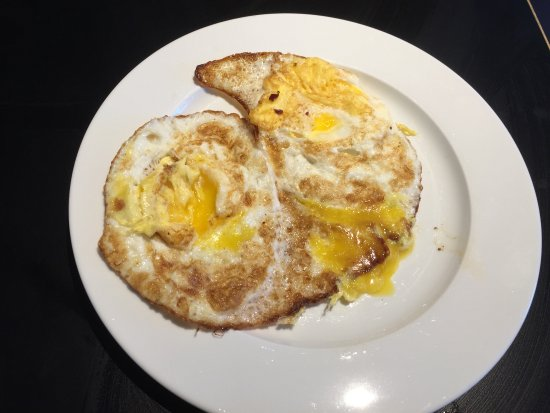fried_eggs: (274, 70, 437, 272), (111, 136, 295, 311)
